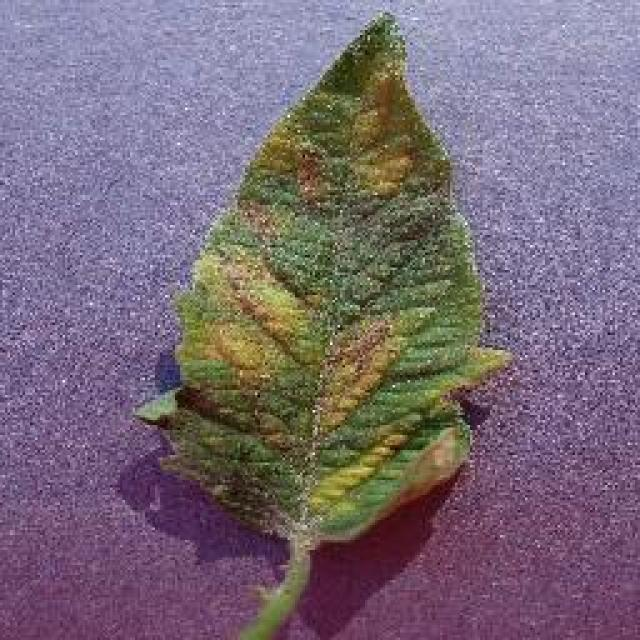Tomato mold leaf: (130, 7, 512, 546)
